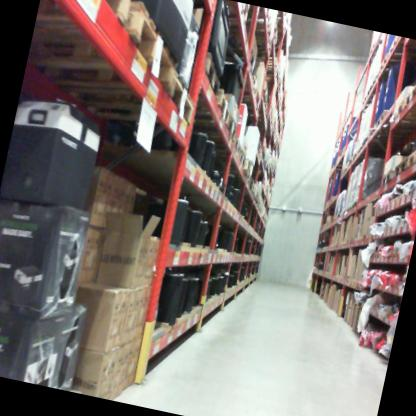pallet: (20, 40, 202, 138), (28, 0, 190, 99), (36, 0, 137, 38), (174, 76, 237, 127), (189, 48, 227, 111), (188, 108, 241, 149), (228, 15, 280, 54), (377, 50, 413, 79), (367, 124, 407, 147), (390, 97, 416, 131), (234, 88, 262, 115), (230, 73, 262, 96), (383, 36, 413, 59), (391, 148, 409, 186), (253, 75, 274, 106), (245, 101, 273, 124), (375, 109, 400, 131), (232, 143, 250, 169), (403, 137, 416, 170), (240, 150, 253, 181), (403, 83, 416, 113), (379, 165, 394, 189), (231, 133, 244, 155), (252, 135, 263, 155)
